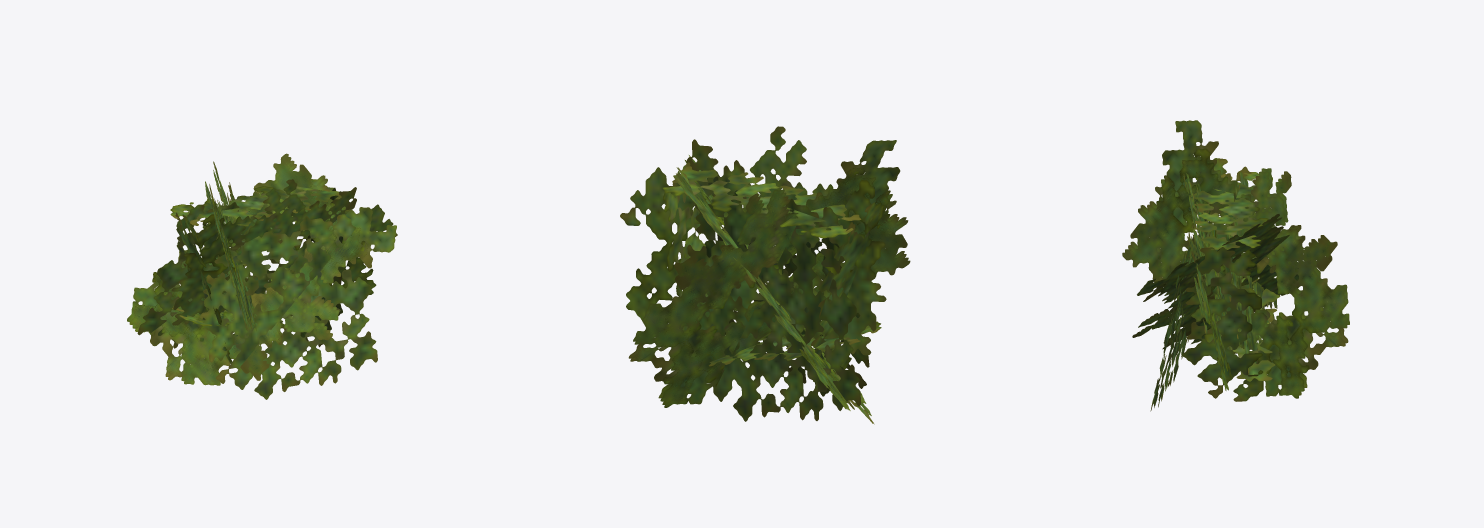
File: oak_leaves_yellowish_vertical_slab_3.obj
3 renders of one model, left to right at view 1: azimuth 30°, elevation 25°; view 2: azimuth 150°, elevation 25°; view 3: azimuth 270°, elevation 25°, orthographic. The views are drawn at different scales.
Visible parts, largest first — view 1: cube; view 2: cube; view 3: cube.
Part boxes in pixels (left/top/right/bottom): cube: left=127, top=153, right=397, bottom=399; cube: left=620, top=126, right=910, bottom=424; cube: left=1122, top=120, right=1349, bottom=411.
Bounding box in the file's own units: 2.25 × 2.85 × 2.69.
